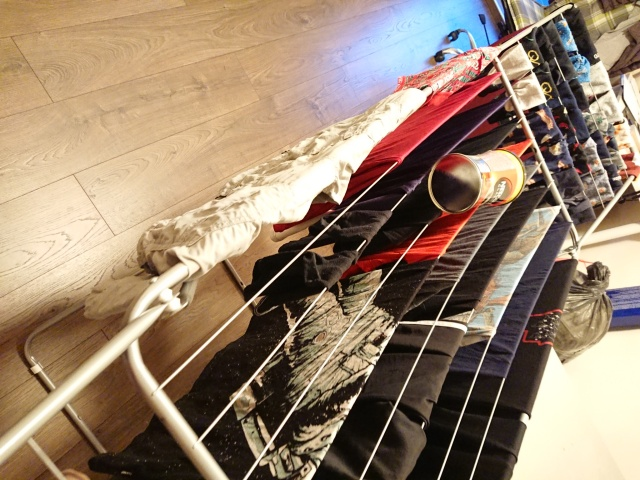Nescafe Classic 225g: (425, 146, 529, 217)
